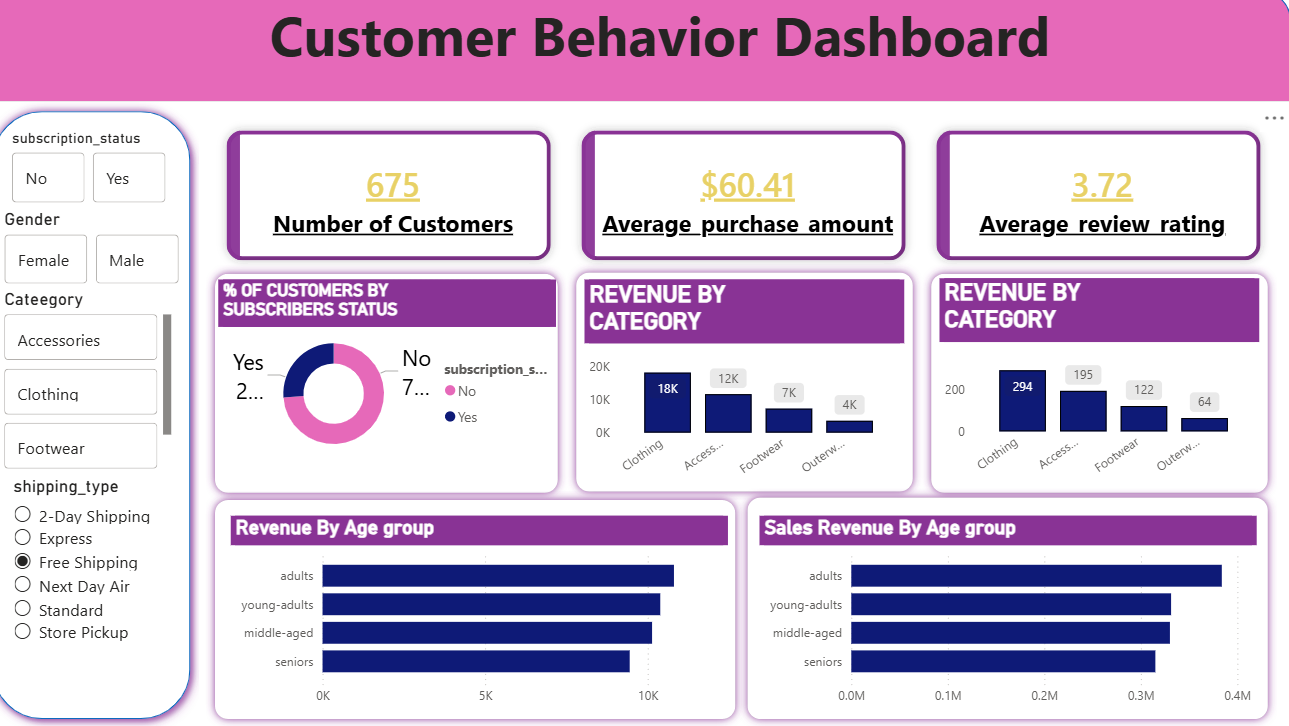

The dashboard page shown, as its layout file describes it:
{"tool":"powerbi","page":{"name":"Page 1","canvas":[1280,720],"ordinal":0},"visuals":[{"type":"cardVisual","fields":{"Data":["customer_table.Number of Customers","customer_table.Average_purchase_amount","customer_table.Average_review_rating"]},"box":[211.6,107.6,1068.8,183.4],"z":0},{"type":"shape","box":[0,0,1280.3,107.6],"z":1000},{"type":"textbox","box":[103.9,0,1104.2,97.8],"z":2000},{"type":"shape","box":[218.9,266.6,353.4,232.3],"z":3000},{"type":"donutChart","title":"% OF CUSTOMERS BY SUBSCRIBERS STATUS","fields":{"Y":["CountNonNull(customer_table.customer_id)"],"Category":["customer_table.subscription_status"]},"box":[231.1,281.3,330.2,182.2],"z":4000},{"type":"shape","box":[572.3,265.4,347.3,232.3],"z":5000},{"type":"shape","box":[919.6,266.6,347.3,232.3],"z":6000},{"type":"clusteredColumnChart","title":"REVENUE BY CATEGORY","fields":{"Category":["customer_table.category"],"Y":["Sum(customer_table.purchase_amount)"]},"box":[589.4,281.3,313,203],"z":7000},{"type":"clusteredColumnChart","title":"REVENUE BY CATEGORY","fields":{"Category":["customer_table.category"],"Y":["CountNonNull(customer_table.customer_id)"]},"box":[936.7,280,313,203],"z":8000},{"type":"shape","box":[1.2,107.6,211.6,612.6],"z":9000},{"type":"advancedSlicerVisual","fields":{"Values":["customer_table.subscription_status"]},"box":[24.5,134.5,161.4,77],"z":10000},{"type":"advancedSlicerVisual","title":"Gender","fields":{"Values":["customer_table.gender"]},"box":[17.1,211.6,181,79.5],"z":11000},{"type":"advancedSlicerVisual","title":"Cateegory","fields":{"Values":["customer_table.category"]},"box":[17.1,289.8,173.6,183.4],"z":12000},{"type":"listSlicer","fields":{"Values":["customer_table.shipping_type"]},"box":[25.7,473.2,159,215.2],"z":13000},{"type":"clusteredBarChart","fields":{"Y":["Sum(customer_table.purchase_amount)"],"Category":["customer_table.age_group"]},"box":[243.3,498.9,317.9,194.4],"z":14000},{"type":"shape","box":[218.9,487.9,527,232.3],"z":15000},{"type":"clusteredBarChart","title":"Revenue By Age group","fields":{"Y":["Sum(customer_table.purchase_amount)"],"Category":["customer_table.age_group"]},"box":[243.3,512.4,486.7,194.4],"z":16000},{"type":"clusteredBarChart","title":"Sales Revenue By Age group","fields":{"Y":["Sum(customer_table.customer_id)"],"Category":["customer_table.age_group"]},"box":[760.6,512.4,486.7,194.4],"z":17000},{"type":"shape","box":[739.8,485.5,527,234.8],"z":18000},{"type":"clusteredBarChart","title":"Sales Revenue By Age group","fields":{"Y":["Sum(customer_table.customer_id)"],"Category":["customer_table.age_group"]},"box":[760.6,512.4,486.7,194.4],"z":18001}]}

Visuals, with their boxes in screenshot pixels (x1, y1, x2, y2), scaled from the page's 1280x720 canvas onto the 1289x726 screenshot:
cardVisual - customer_table.Number of Customers x customer_table.Average_purchase_amount: x1=213 y1=108 x2=1288 y2=293
shape: x1=0 y1=0 x2=1288 y2=108
textbox: x1=105 y1=0 x2=1217 y2=99
shape: x1=220 y1=269 x2=576 y2=503
"% OF CUSTOMERS BY SUBSCRIBERS STATUS" donutChart: x1=233 y1=284 x2=565 y2=467
shape: x1=576 y1=268 x2=926 y2=502
shape: x1=926 y1=269 x2=1276 y2=503
"REVENUE BY CATEGORY" clusteredColumnChart: x1=594 y1=284 x2=909 y2=488
"REVENUE BY CATEGORY" clusteredColumnChart: x1=943 y1=282 x2=1258 y2=487
shape: x1=1 y1=108 x2=214 y2=725
advancedSlicerVisual - customer_table.subscription_status: x1=25 y1=136 x2=187 y2=213
"Gender" advancedSlicerVisual: x1=17 y1=213 x2=199 y2=294
"Cateegory" advancedSlicerVisual: x1=17 y1=292 x2=192 y2=477
listSlicer - customer_table.shipping_type: x1=26 y1=477 x2=186 y2=694
clusteredBarChart - Sum(customer_table.purchase_amount) x customer_table.age_group: x1=245 y1=503 x2=565 y2=699
shape: x1=220 y1=492 x2=751 y2=725
"Revenue By Age group" clusteredBarChart: x1=245 y1=517 x2=735 y2=713
"Sales Revenue By Age group" clusteredBarChart: x1=766 y1=517 x2=1256 y2=713
shape: x1=745 y1=490 x2=1276 y2=725
"Sales Revenue By Age group" clusteredBarChart: x1=766 y1=517 x2=1256 y2=713
